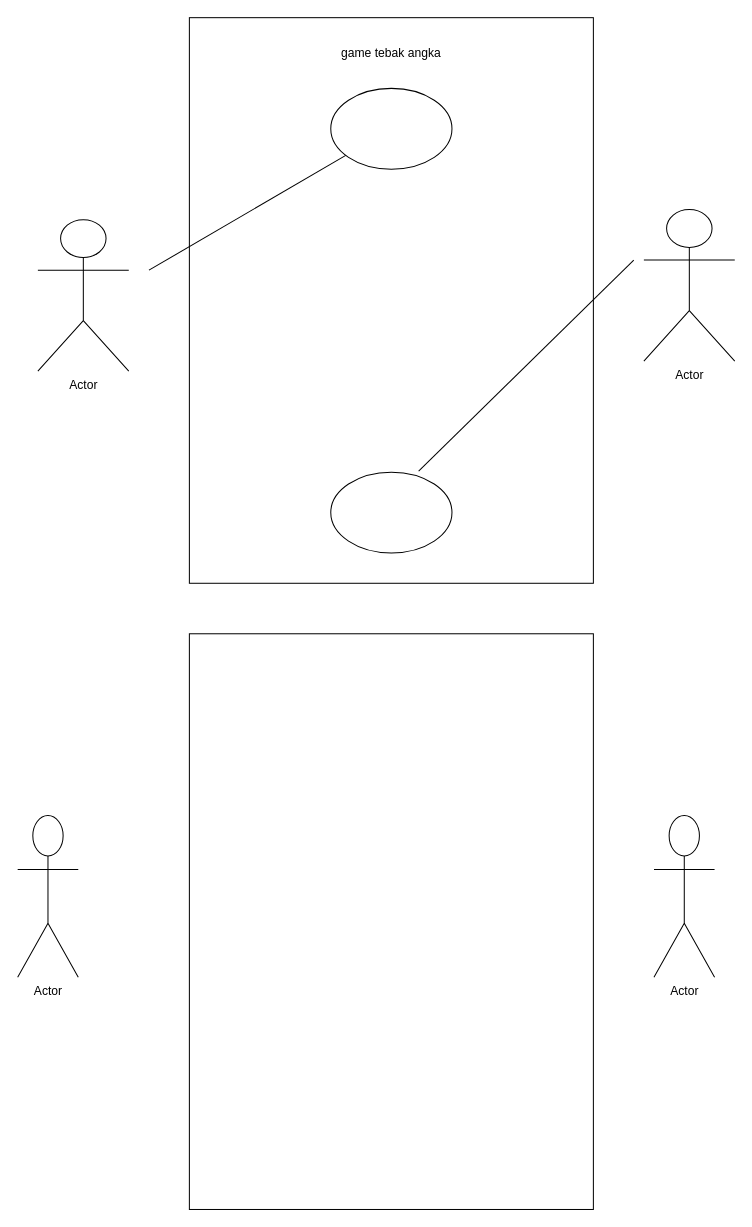
This 752x1227 diagram has some shape labels left out. Each missing label, with the centre of its shape:
"random angka" belongs at (x=391, y=128).
"tebak angka" belongs at (x=391, y=512).
